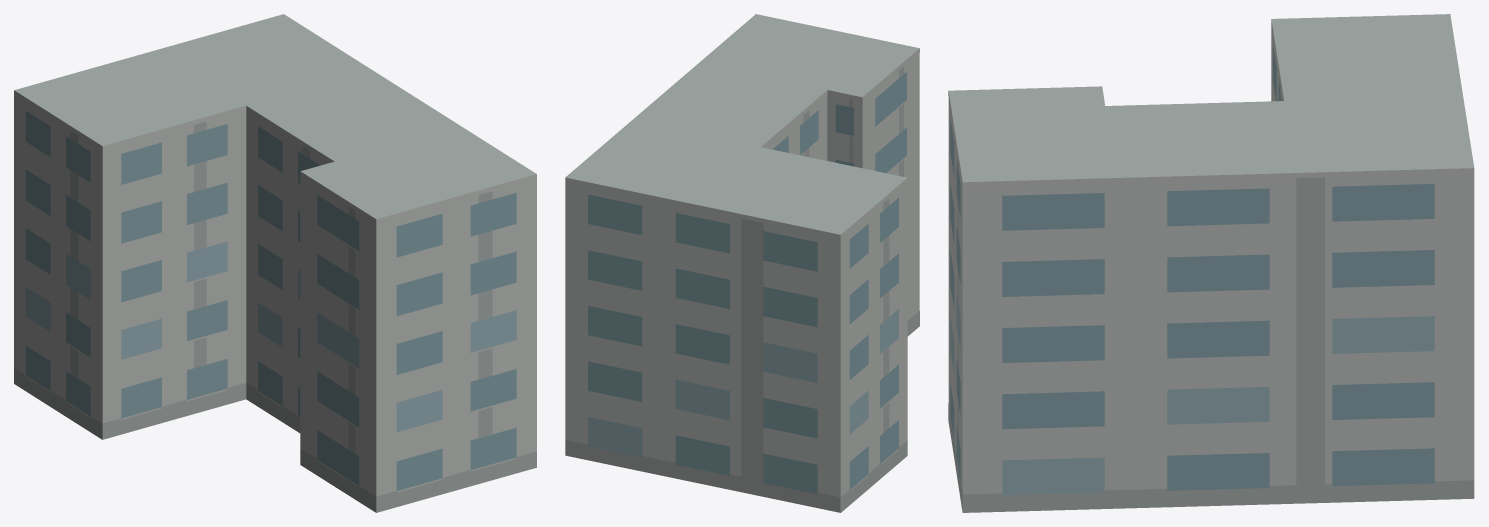
File: residential-6aa2ddda-a90a-468d-a83c-40f8b8cce223.glb
3 renders of one model, left to right at view 1: azimuth 30°, elevation 25°; view 2: azimuth 150°, elevation 25°; view 3: azimuth 270°, elevation 25°, orthographic. The views are drawn at different scales.
Visible parts, largest first — view 1: residential-6aa2ddda-a90a-468d-a83c-40f8b8cce223.tmp; view 2: residential-6aa2ddda-a90a-468d-a83c-40f8b8cce223.tmp; view 3: residential-6aa2ddda-a90a-468d-a83c-40f8b8cce223.tmp.
Part boxes in pixels (<box>): residential-6aa2ddda-a90a-468d-a83c-40f8b8cce223.tmp: <box>14,14,536,512</box>; residential-6aa2ddda-a90a-468d-a83c-40f8b8cce223.tmp: <box>565,14,919,512</box>; residential-6aa2ddda-a90a-468d-a83c-40f8b8cce223.tmp: <box>948,14,1474,512</box>.
Bounding box in the file's own units: 16.65 × 15.25 × 21.99.
